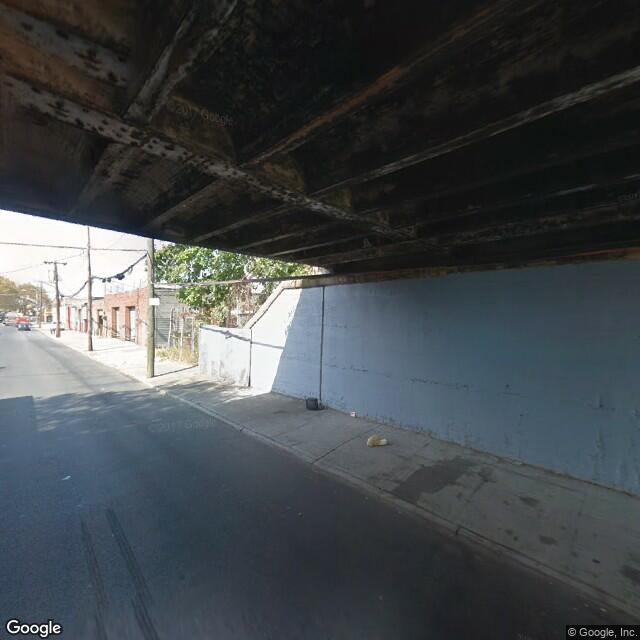litter: (363, 431, 385, 443), (303, 396, 318, 409)
